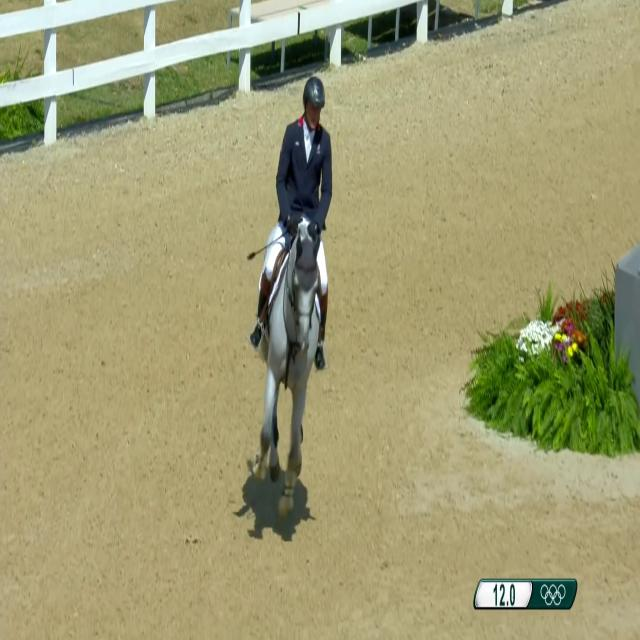Horse Rider: (272, 58, 341, 262)
Horse Running: (244, 208, 332, 529)
